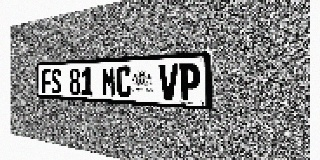1: (81, 67, 93, 96)
8: (69, 68, 80, 95)
C: (116, 66, 131, 98)
F: (42, 69, 51, 94)
M: (102, 66, 116, 97)
P: (179, 63, 200, 101)
S: (51, 68, 61, 94)
V: (159, 64, 178, 100)
